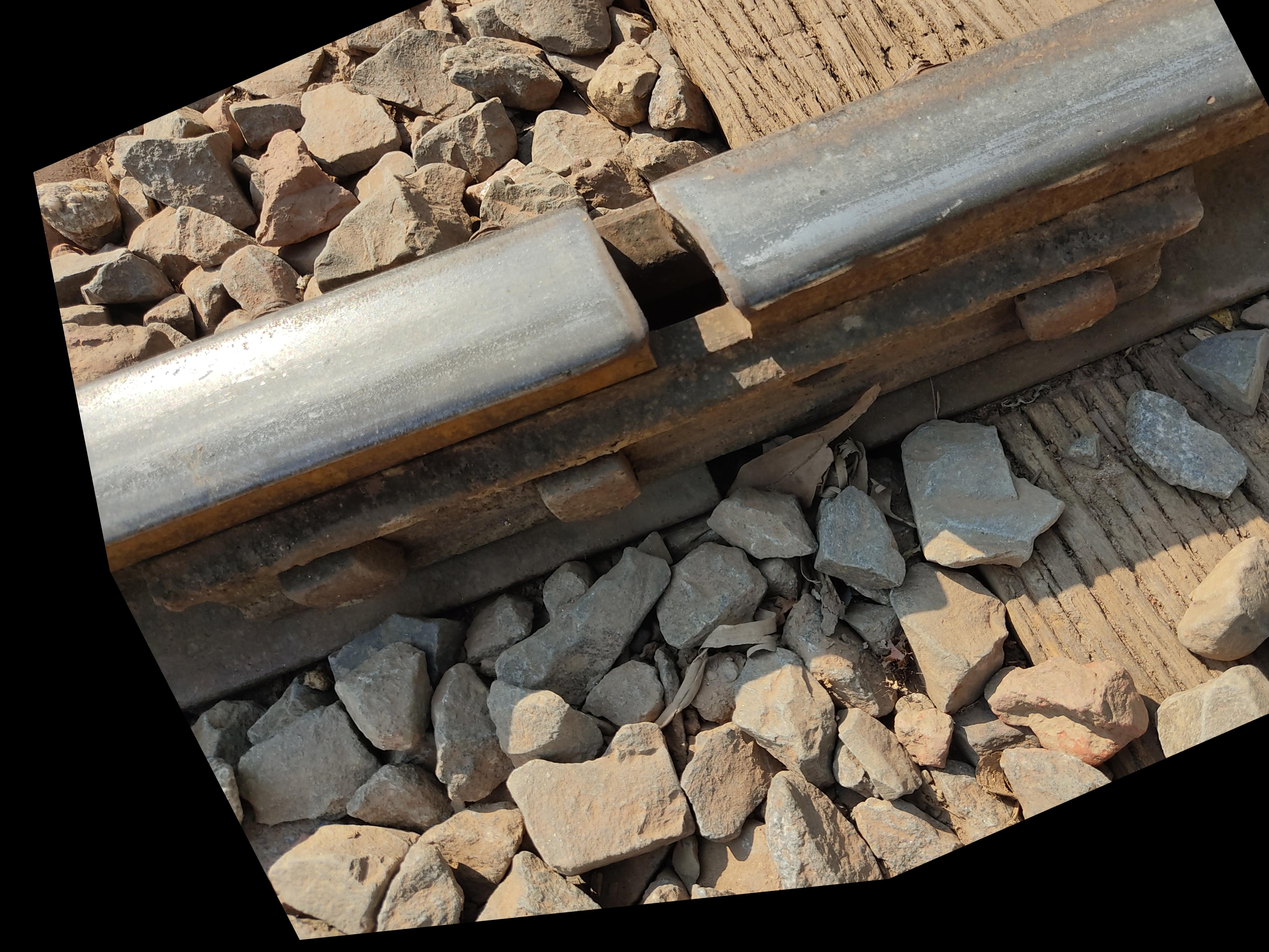person: (375, 317, 779, 677)
